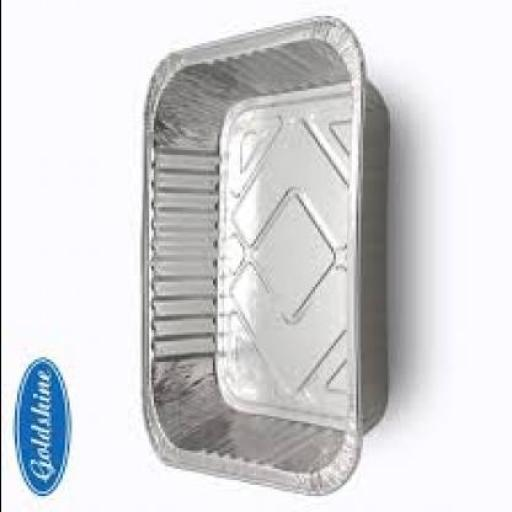metal: (138, 18, 390, 498)
